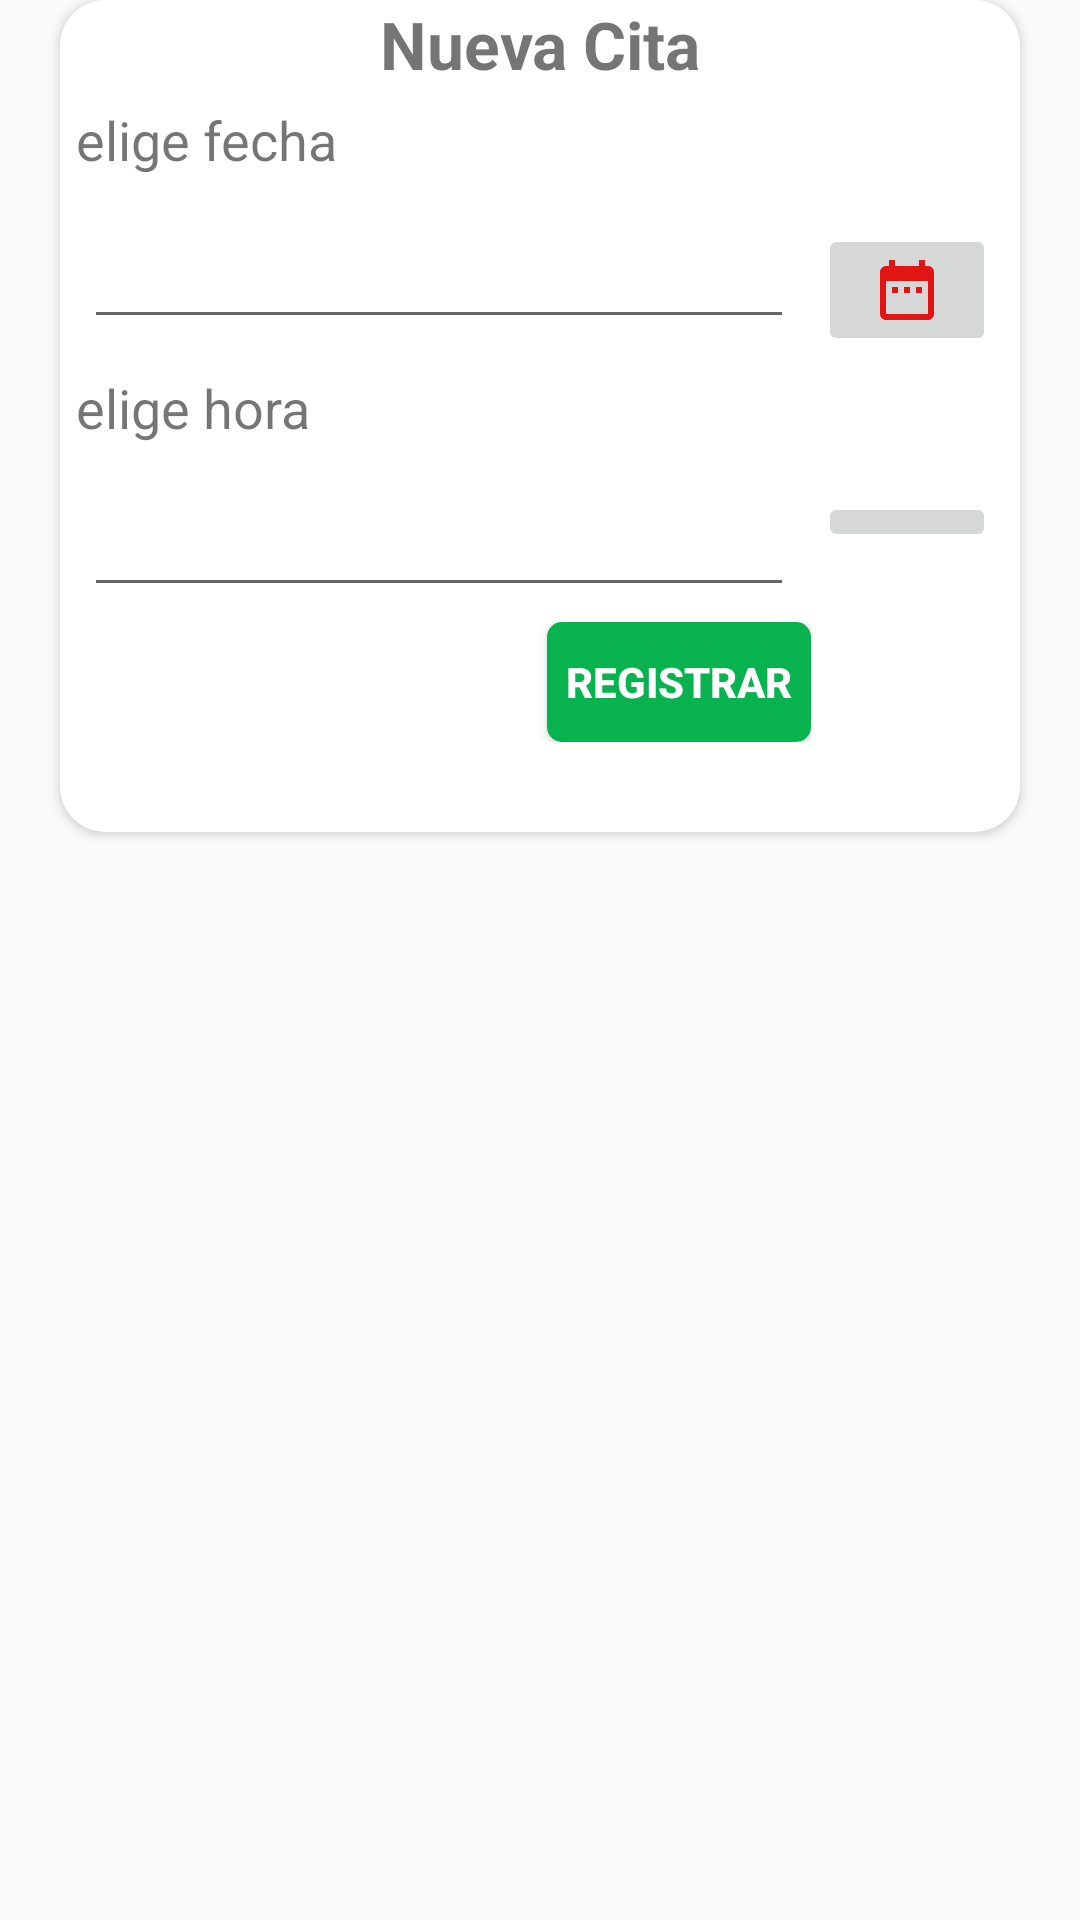

Named icons in this screenshot (1080 × 1920) and their centers, point (x, y):
date: point (907, 290)
